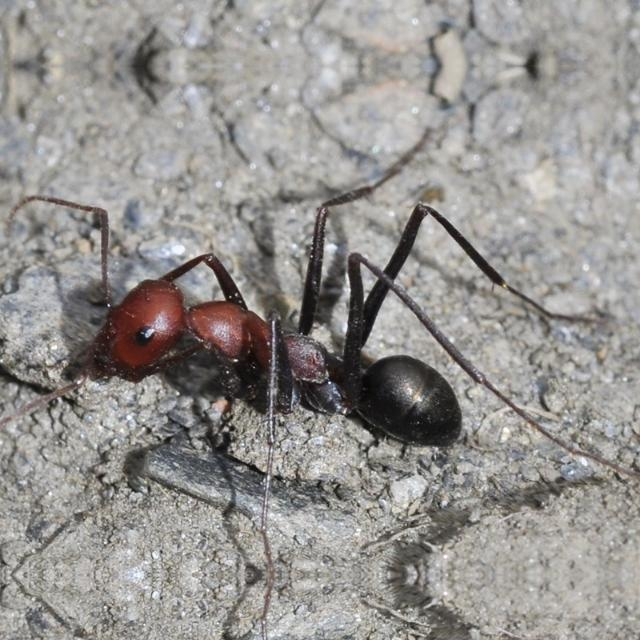Cataglyphis: (56, 226, 522, 476)
